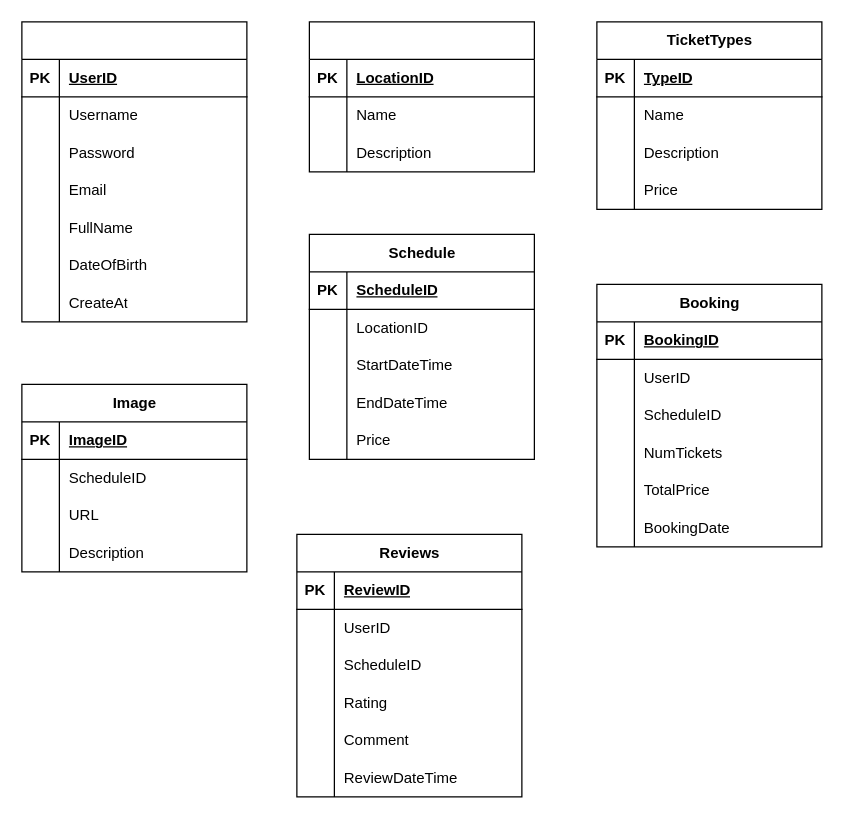
Image size: 844x819. Some labels were removed from this diagram. Each missing label, with the box of its shape:
Locations: (308, 21, 534, 172)
Users: (21, 21, 247, 322)
